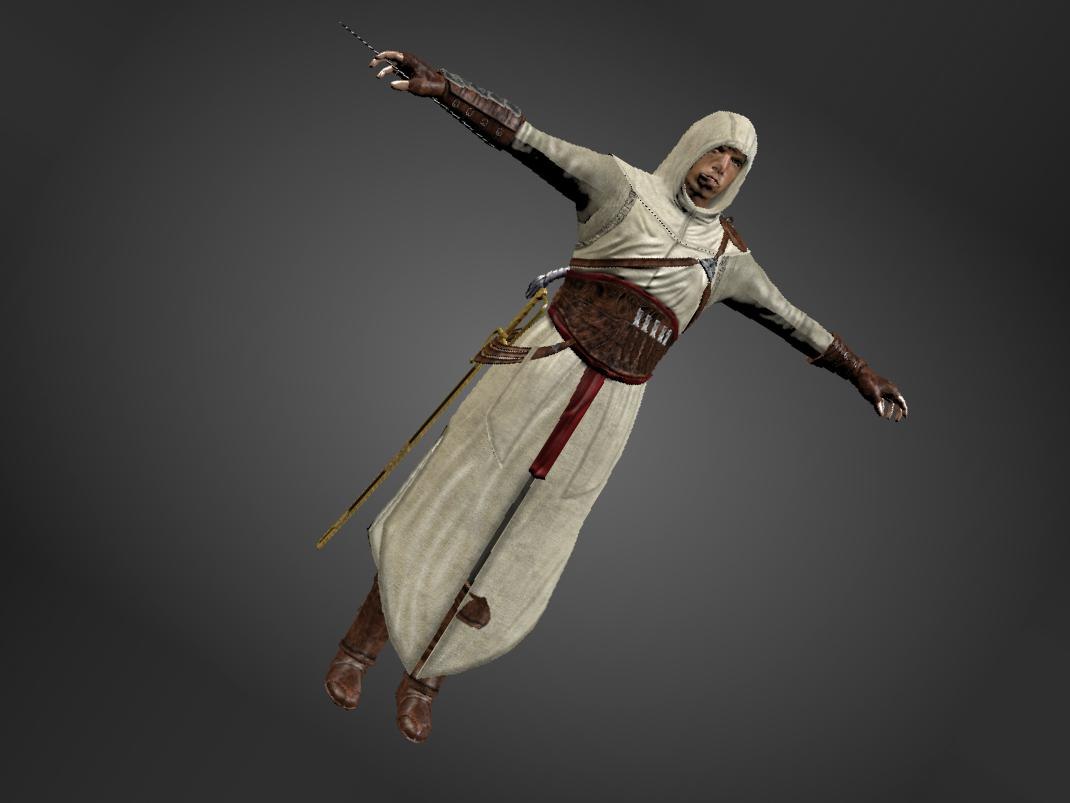clip: (454, 596, 498, 632)
